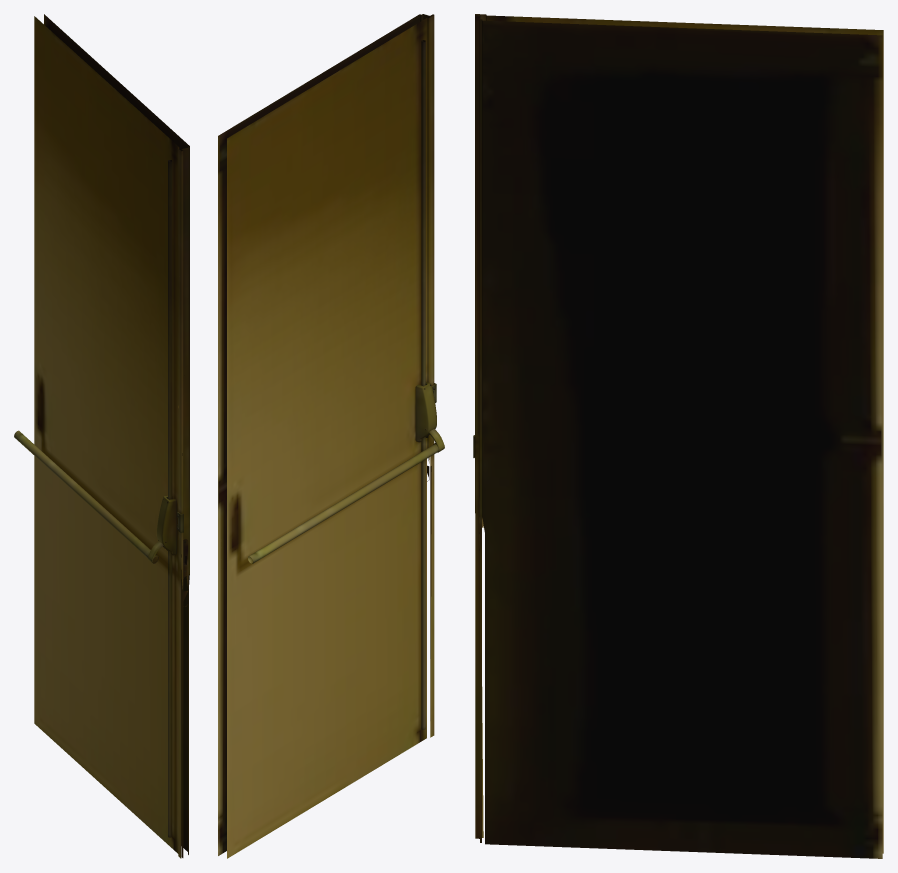
The model's file is door.glb.
3 views of the same model, side by side, from view 1: azimuth 30°, elevation 25°; view 2: azimuth 150°, elevation 25°; view 3: azimuth 270°, elevation 25° (orthographic). The views are drawn at different scales.
Visible parts, largest first — view 1: Object_46.371, Object_46.383, Object_50.530, Object_46.377, Object_50.604, Object_46.395, Object_46.385, Object_46.397, Object_50.457, Object_46.381, Object_46.407, Object_46.387 (+4 smaller); view 2: Object_46.371, Object_46.383, Object_50.530, Object_50.604, Object_46.377, Object_46.385, Object_50.457, Object_46.393, Object_46.387, Object_46.482; view 3: Object_46.383, Object_46.381, Object_46.371, Object_46.380, Object_46.382.
Part boxes in pixels (bbox=[...]): Object_46.371: bbox=[34, 16, 179, 853]; Object_46.383: bbox=[44, 14, 188, 851]; Object_50.530: bbox=[168, 160, 172, 837]; Object_46.377: bbox=[179, 150, 181, 858]; Object_50.604: bbox=[14, 430, 150, 557]; Object_46.395: bbox=[183, 160, 188, 563]; Object_46.385: bbox=[177, 148, 179, 572]; Object_46.397: bbox=[182, 147, 188, 453]; Object_50.457: bbox=[156, 497, 176, 555]; Object_46.381: bbox=[181, 149, 183, 857]; Object_46.407: bbox=[181, 151, 182, 553]; Object_46.387: bbox=[178, 149, 179, 534]; Object_46.371: bbox=[227, 18, 426, 858]; Object_46.383: bbox=[218, 15, 418, 855]; Object_50.530: bbox=[421, 40, 425, 729]; Object_50.604: bbox=[248, 444, 438, 563]; Object_46.377: bbox=[432, 15, 434, 736]; Object_46.385: bbox=[429, 18, 431, 446]; Object_50.457: bbox=[416, 384, 436, 442]; Object_46.393: bbox=[427, 18, 428, 448]; Object_46.387: bbox=[430, 16, 431, 382]; Object_46.482: bbox=[428, 18, 429, 382]; Object_46.383: bbox=[485, 20, 882, 858]; Object_46.381: bbox=[475, 15, 479, 838]; Object_46.371: bbox=[486, 15, 883, 853]; Object_46.380: bbox=[480, 19, 481, 842]; Object_46.382: bbox=[482, 20, 484, 531].
Size of the model in its own units: 0.1842 by 2.16 by 0.9773.
Materials: 1 (1 with a texture image).
